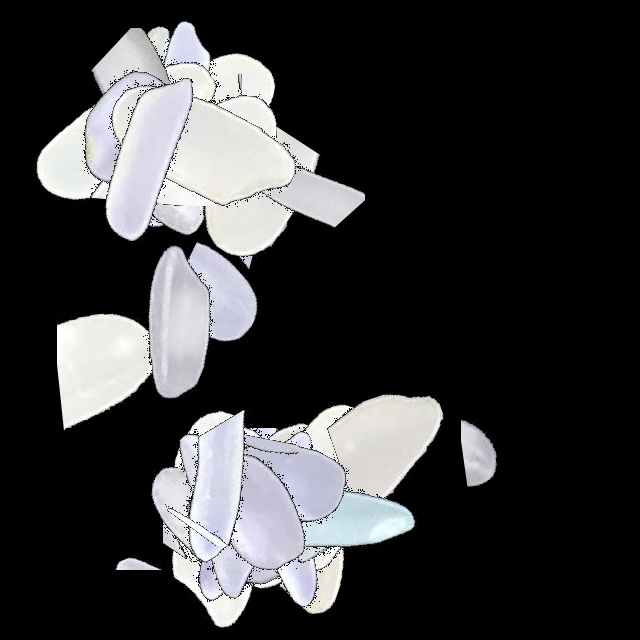Broken: (36, 0, 286, 171), (63, 40, 313, 206), (166, 390, 330, 640), (123, 28, 287, 278), (159, 381, 319, 631), (126, 232, 376, 390), (227, 390, 382, 640), (39, 28, 289, 183), (287, 372, 537, 521), (113, 116, 363, 263), (218, 42, 365, 292), (85, 428, 335, 571), (68, 484, 318, 627), (167, 390, 299, 640), (57, 245, 187, 495), (146, 443, 396, 571), (52, 125, 302, 241), (77, 178, 327, 286), (163, 390, 266, 640), (28, 473, 278, 570), (202, 360, 299, 610), (461, 312, 554, 562), (150, 47, 239, 297), (74, 74, 324, 162), (105, 460, 355, 546), (168, 390, 251, 640), (16, 144, 266, 224), (26, 517, 276, 596), (106, 556, 356, 632)
Full: (91, 390, 341, 640), (176, 390, 426, 640), (73, 12, 323, 262), (85, 390, 335, 640), (67, 31, 317, 281), (185, 375, 435, 625), (167, 390, 417, 640), (129, 390, 379, 640), (146, 390, 396, 640), (48, 0, 298, 250), (33, 48, 283, 298), (135, 390, 385, 640), (3, 8, 253, 258), (88, 390, 338, 640), (193, 390, 443, 640), (0, 0, 250, 250), (162, 355, 412, 605), (74, 22, 324, 272), (138, 390, 388, 640), (50, 200, 300, 450), (22, 32, 272, 282)
